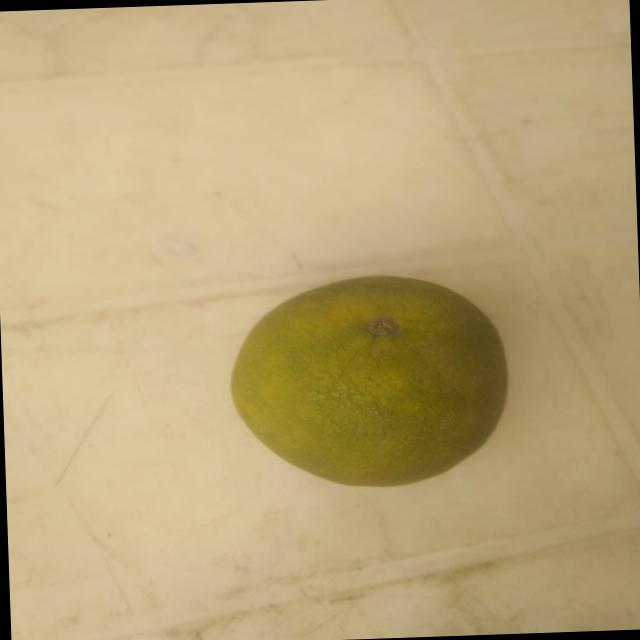Unripe: (194, 244, 546, 498)
